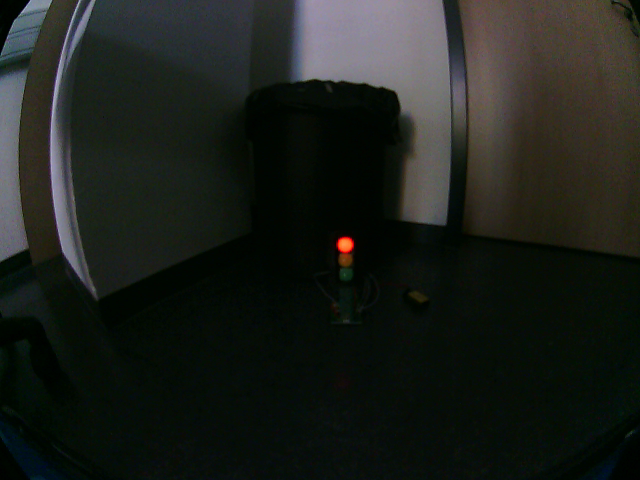red trafficlight: (333, 237, 357, 285)
